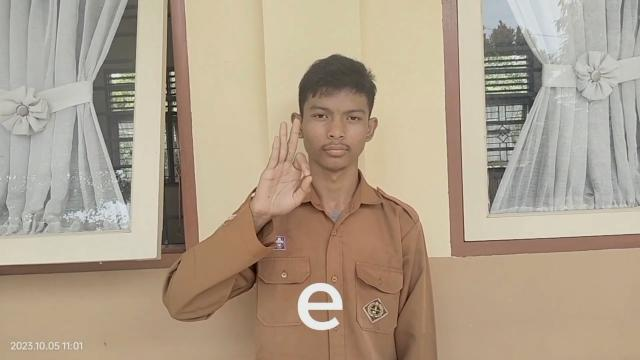F: (258, 116, 316, 217)
